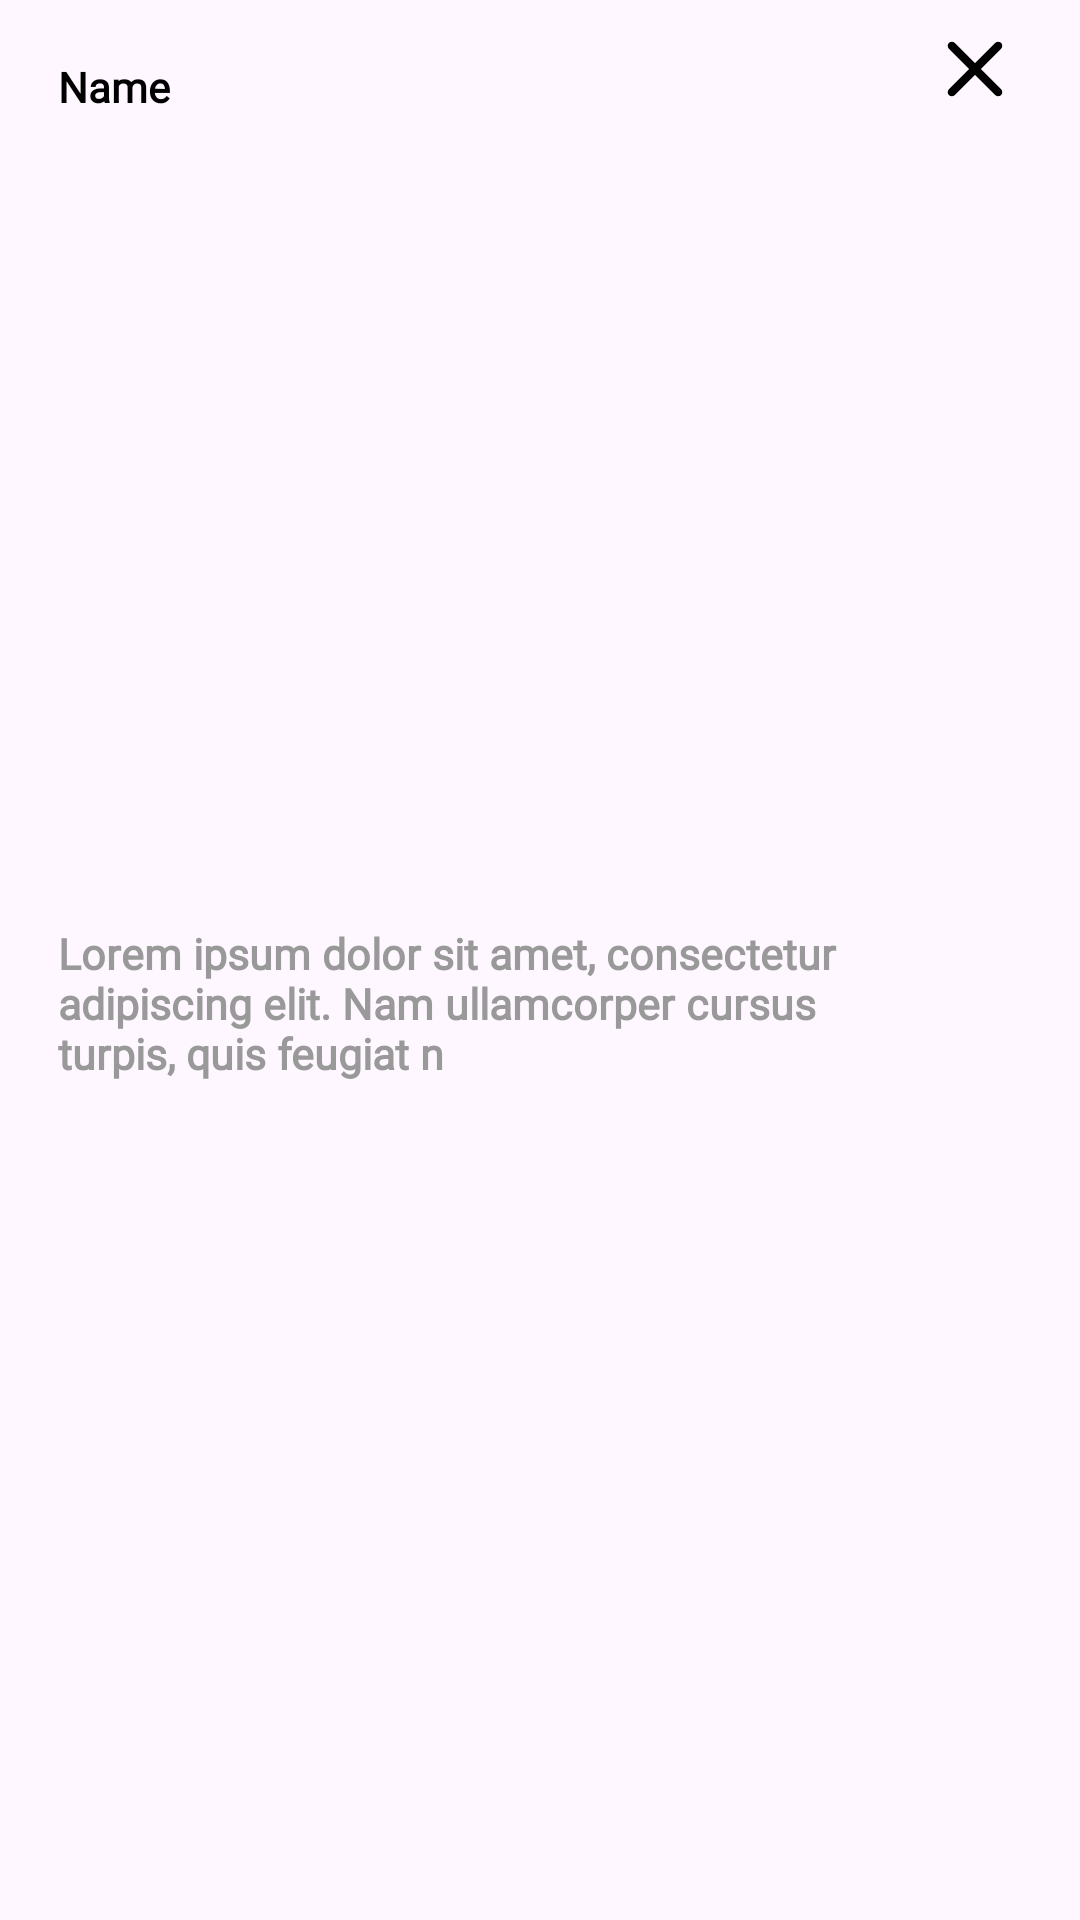

Where to tap for icons on this 1080*1920 app screen, as (x,y):
cross: (975,69)
